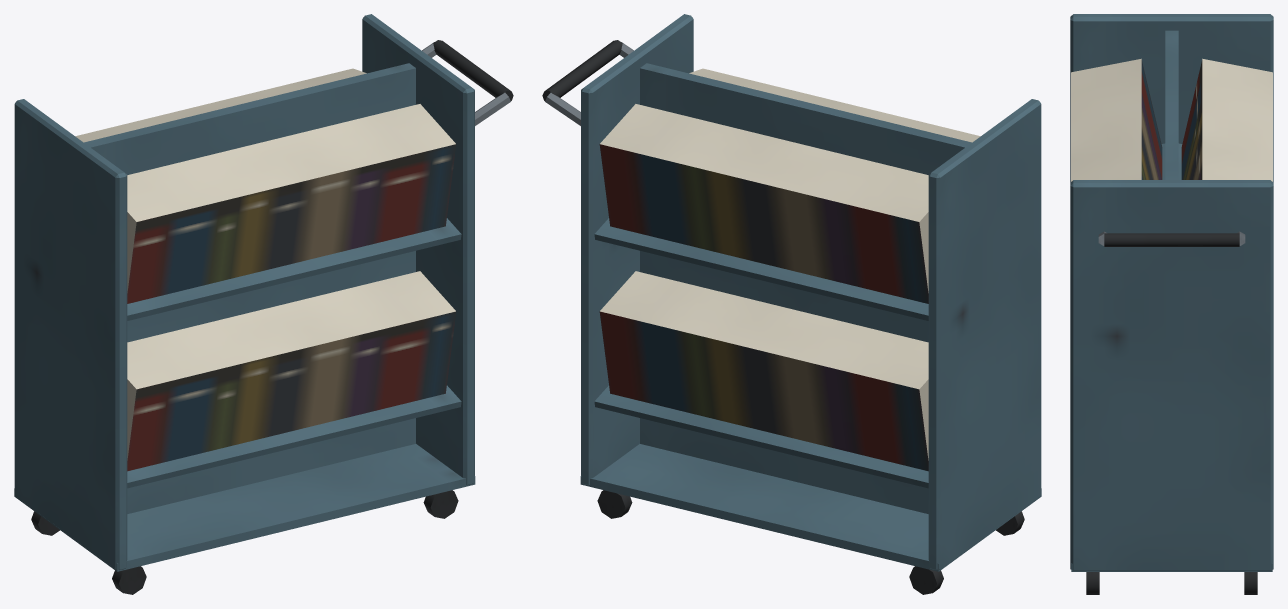
Rendered from book_trolley.fbx.
3 renders of one model, left to right at view 1: azimuth 30°, elevation 25°; view 2: azimuth 150°, elevation 25°; view 3: azimuth 270°, elevation 25°, orthographic. The views are drawn at different scales.
Parts seen in each view (by area): view 1: book_trolley; view 2: book_trolley; view 3: book_trolley.
Part boxes in pixels (x1=…): book_trolley: x1=14, y1=14, x2=513, y2=594; book_trolley: x1=542, y1=14, x2=1041, y2=594; book_trolley: x1=1070, y1=14, x2=1273, y2=594.
Size of the model in its own units: 1.04 by 1.03 by 0.45.
1 material, 1 textured.
